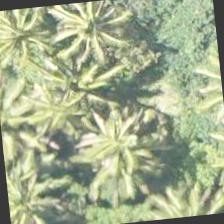Kelapa_Sawit: (11, 58, 110, 157), (70, 99, 168, 198), (48, 0, 147, 85), (0, 4, 74, 86), (5, 158, 73, 223)
